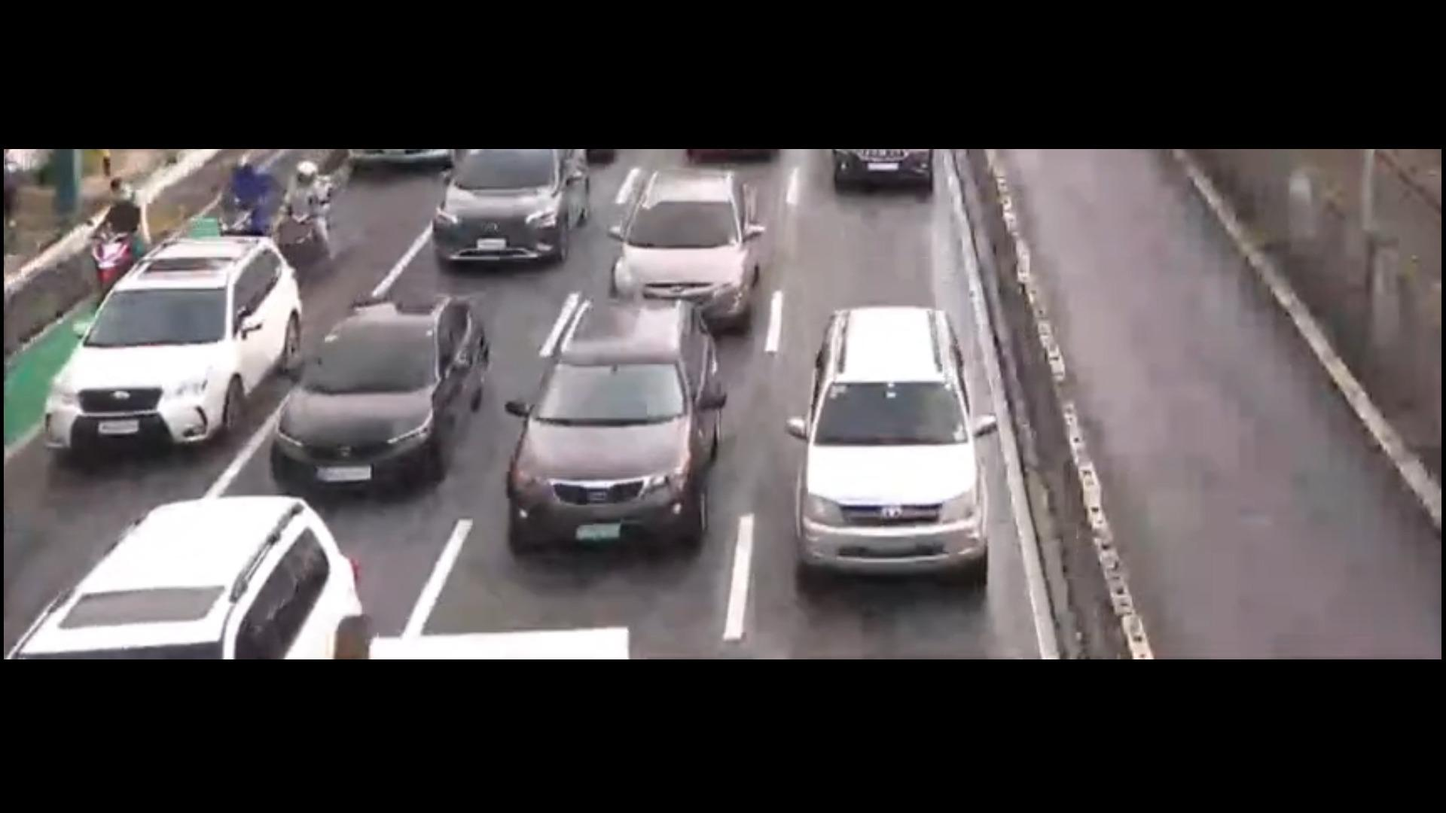Motorcycle: (67, 172, 183, 307), (284, 166, 362, 271), (223, 158, 289, 246)
SUV: (769, 296, 1015, 615), (489, 285, 740, 571), (31, 236, 309, 465), (13, 490, 381, 658), (606, 168, 769, 325), (430, 149, 597, 269)
Sedan: (256, 279, 503, 502)
